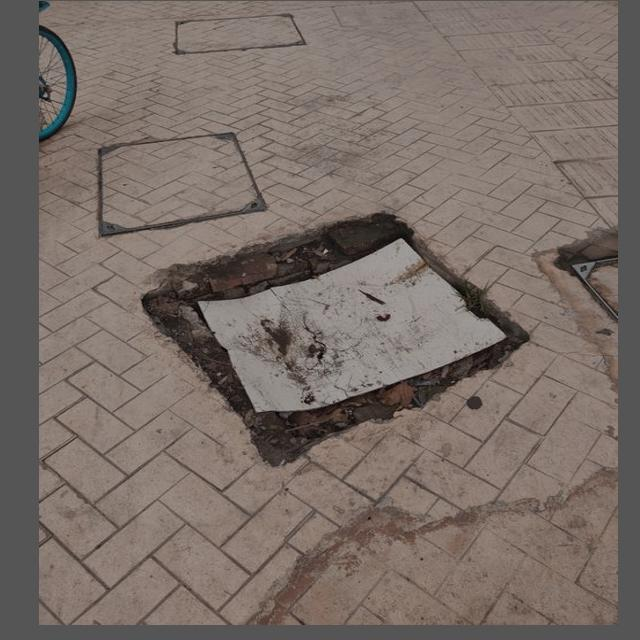broke: (128, 194, 541, 484)
